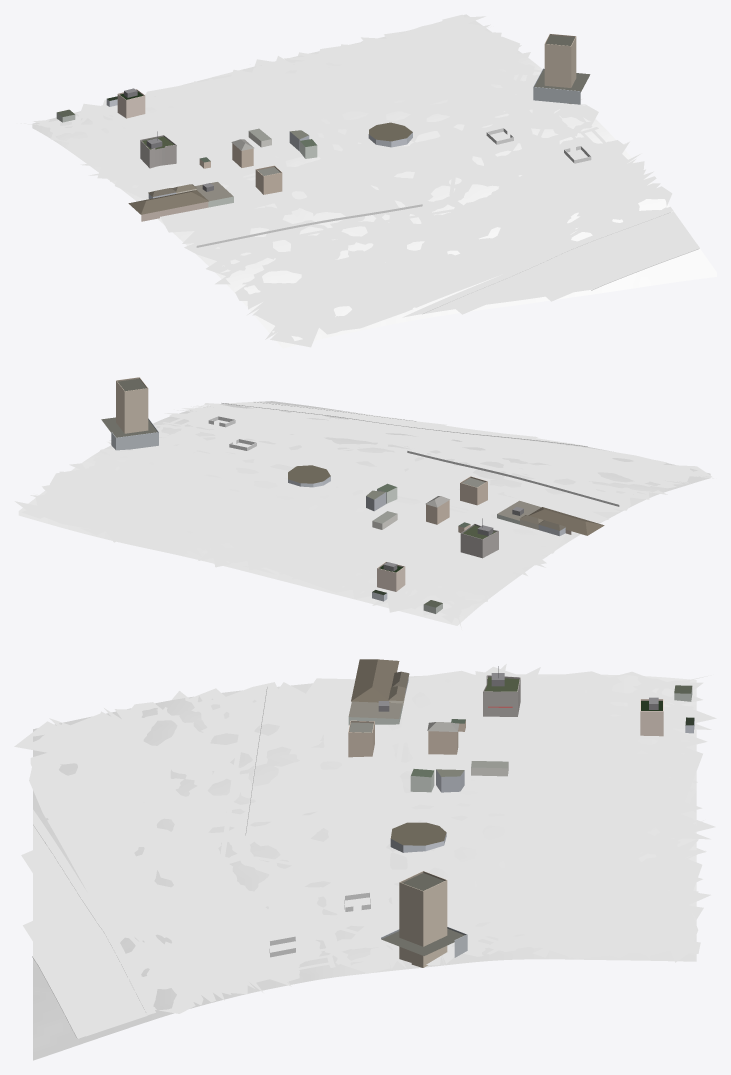
The picture shows the model from 3 angles, top to bottom: view 1: azimuth 30°, elevation 25°; view 2: azimuth 150°, elevation 25°; view 3: azimuth 270°, elevation 25°; orthographic projection. The views are drawn at different scales.
Visible parts, largest first — view 1: t0_3_-8; view 2: t0_3_-8; view 3: t0_3_-8.
Boxes of the visible parts, x1,y1,x2,y2 form: t0_3_-8: (20,14,716,348); t0_3_-8: (14,377,713,629); t0_3_-8: (14,659,716,1060).
Bounding box in the file's own units: 280 × 73.88 × 271.
